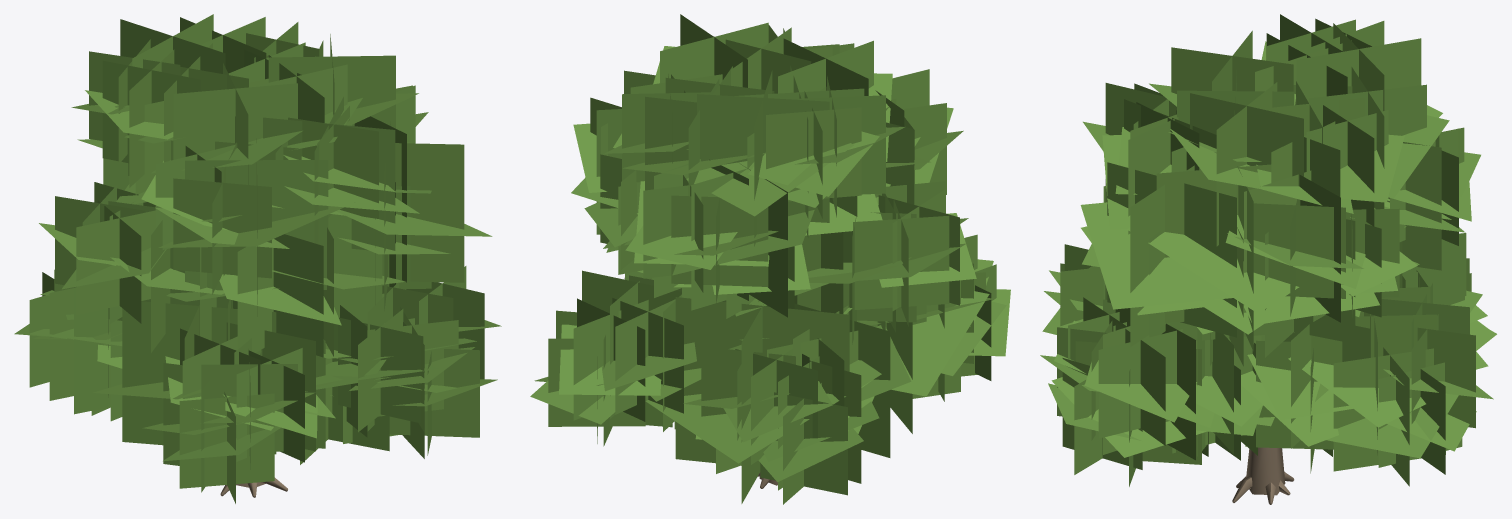
File: pommier_3_f2_loin.glb
3 views of the same model, side by side, from view 1: azimuth 30°, elevation 25°; view 2: azimuth 150°, elevation 25°; view 3: azimuth 270°, elevation 25° (orthographic).
Parts seen in each view (by area): view 1: Pommier_T3_f2_Leger_Loin; view 2: Pommier_T3_f2_Leger_Loin; view 3: Pommier_T3_f2_Leger_Loin.
Boxes of the visible parts, x1,y1,x2,y2 form: Pommier_T3_f2_Leger_Loin: [14, 14, 501, 503]; Pommier_T3_f2_Leger_Loin: [530, 14, 1010, 504]; Pommier_T3_f2_Leger_Loin: [1040, 14, 1496, 504].
Size of the model in its own units: 7.53 by 7.92 by 7.67.
